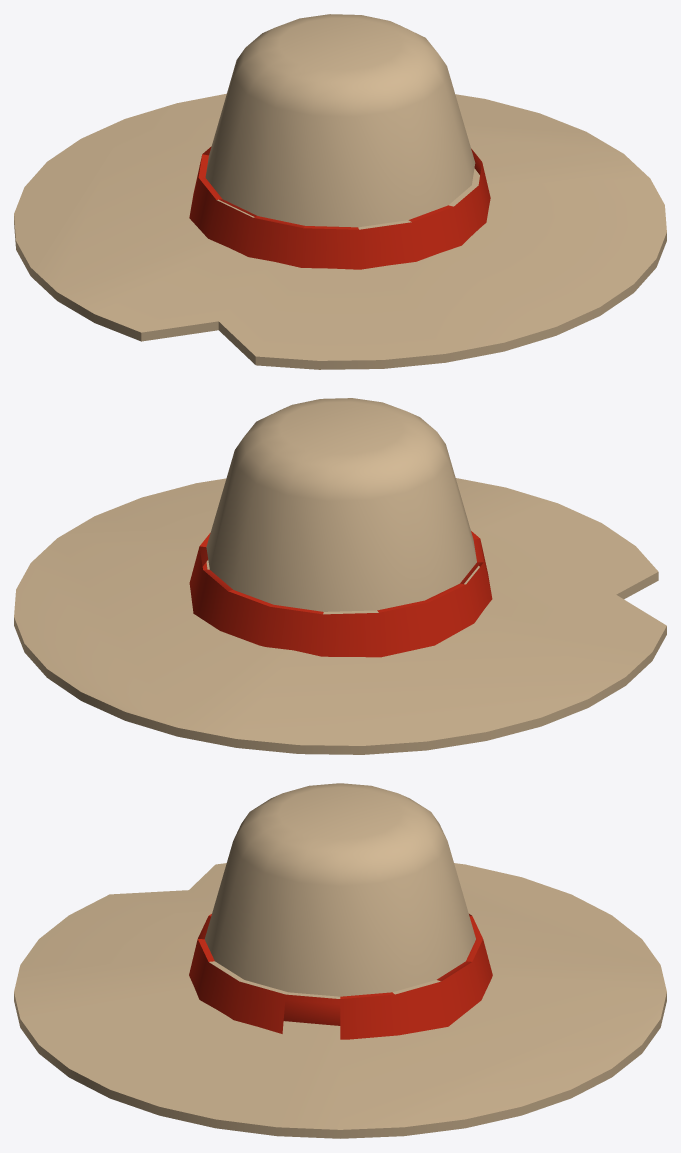
The model's file is Hat.fbx.
3 views of the same model, one above another, from view 1: azimuth 30°, elevation 25°; view 2: azimuth 150°, elevation 25°; view 3: azimuth 270°, elevation 25° (orthographic).
Parts seen in each view (by area): view 1: Hat; view 2: Hat; view 3: Hat.
Boxes of the visible parts, <box> form: Hat: <box>14,14,666,369</box>; Hat: <box>14,398,666,754</box>; Hat: <box>14,783,666,1138</box>.
Size of the model in its own units: 181 by 57.25 by 181.
